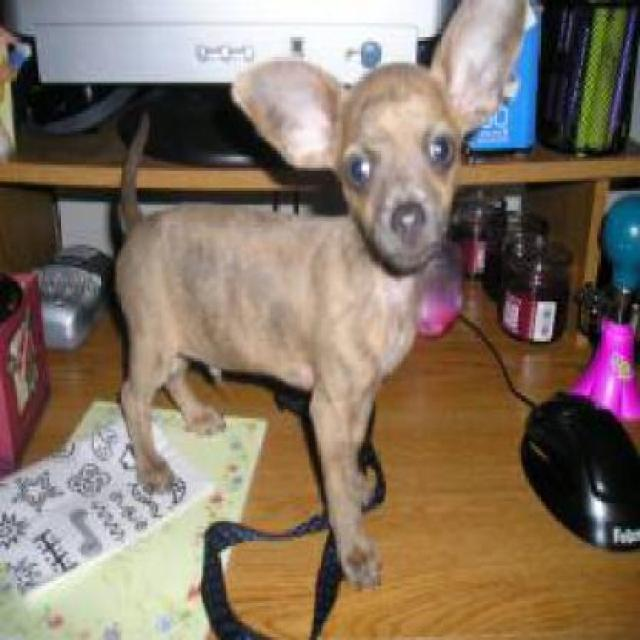Dog: (115, 0, 529, 598)
